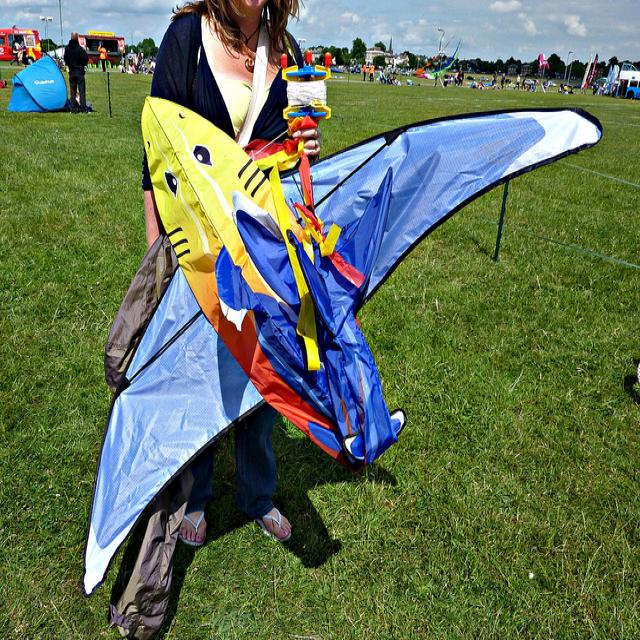Vehicle: (0, 24, 42, 64)
